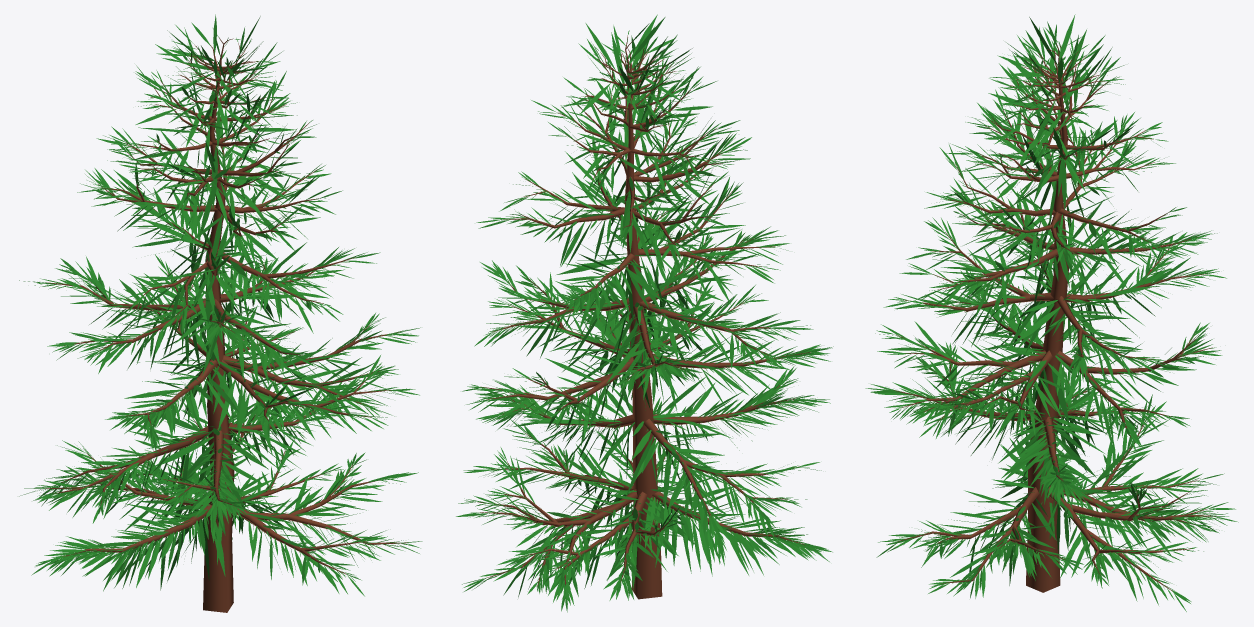
The model's file is Spruce.fbx.
The picture shows the model from 3 angles, left to right: view 1: azimuth 30°, elevation 25°; view 2: azimuth 150°, elevation 25°; view 3: azimuth 270°, elevation 25°; orthographic projection. The views are drawn at different scales.
Parts seen in each view (by area): view 1: Spruce.001; view 2: Spruce.001; view 3: Spruce.001.
Boxes of the visible parts, x1,y1,x2,y2 form: Spruce.001: (19,14,422,612); Spruce.001: (456,14,833,612); Spruce.001: (865,14,1238,611).
Size of the model in its own units: 985 by 1528 by 924.
